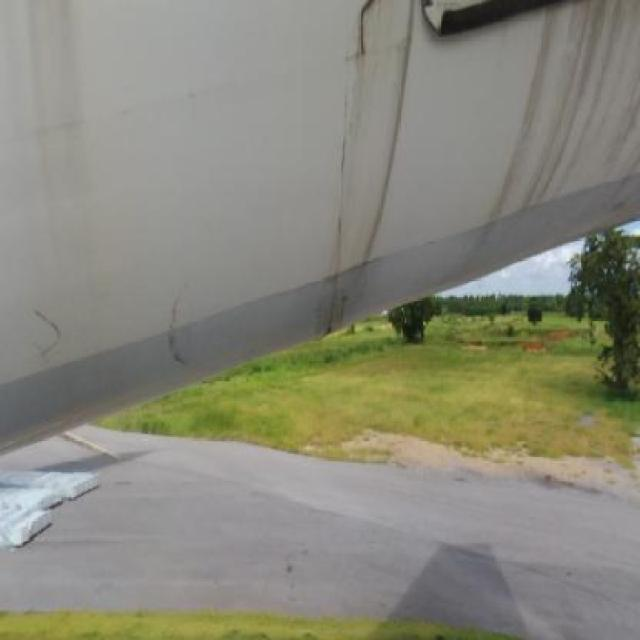Rust: (469, 0, 640, 298), (310, 2, 424, 361), (15, 1, 136, 279), (155, 273, 210, 405), (28, 294, 88, 388)
